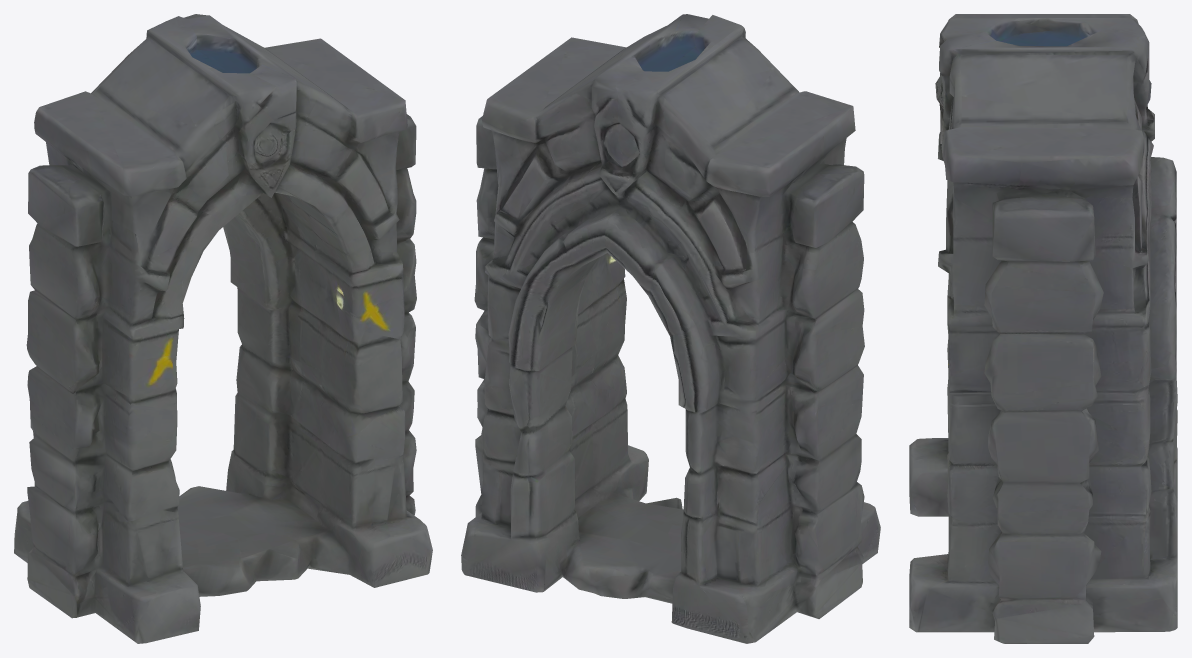
The model's file is gate_portal.glb.
The picture shows the model from 3 angles, left to right: view 1: azimuth 30°, elevation 25°; view 2: azimuth 150°, elevation 25°; view 3: azimuth 270°, elevation 25°; orthographic projection. The views are drawn at different scales.
Parts seen in each view (by area): view 1: 0; view 2: 0; view 3: 0.
Boxes of the visible parts, <box> form: 0: <box>14,14,432,643</box>; 0: <box>461,14,880,643</box>; 0: <box>909,14,1177,643</box>.
Bounding box in the file's own units: 1.33 × 1.91 × 0.8805.
Materials: 1 (1 with a texture image).
